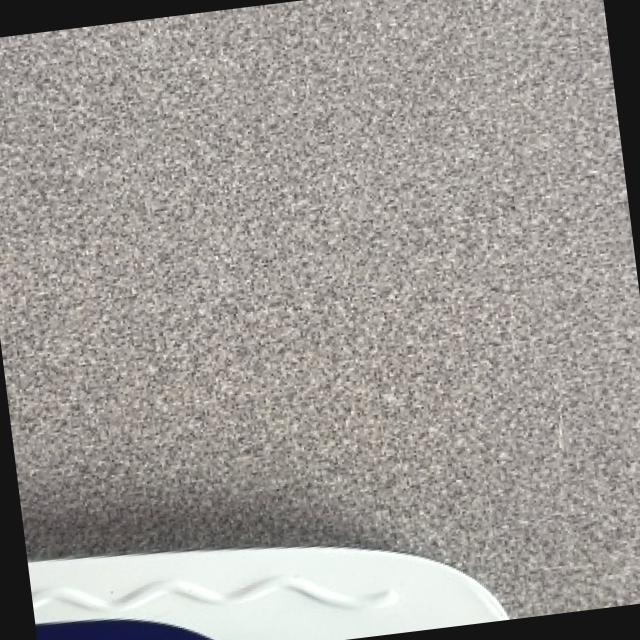healthy: (27, 545, 505, 640)
